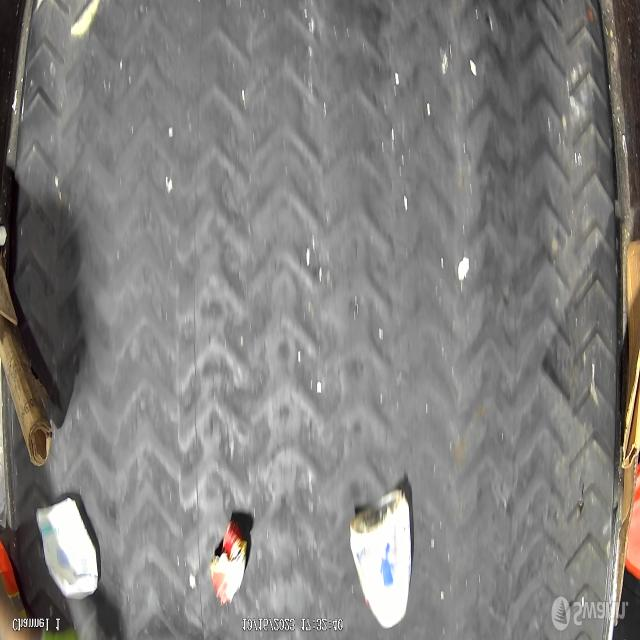can: (208, 526, 247, 612)
